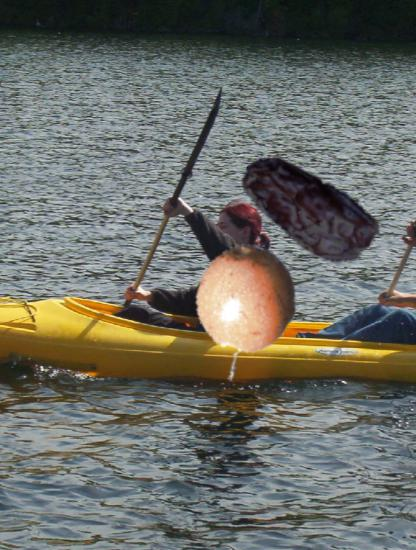Dates: (233, 137, 383, 287)
Granadilla: (173, 244, 313, 384)
